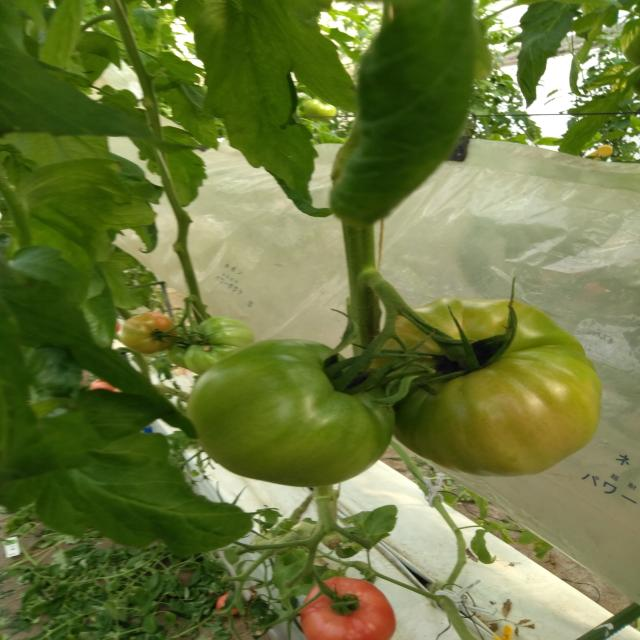yesil: (172, 311, 437, 472)
